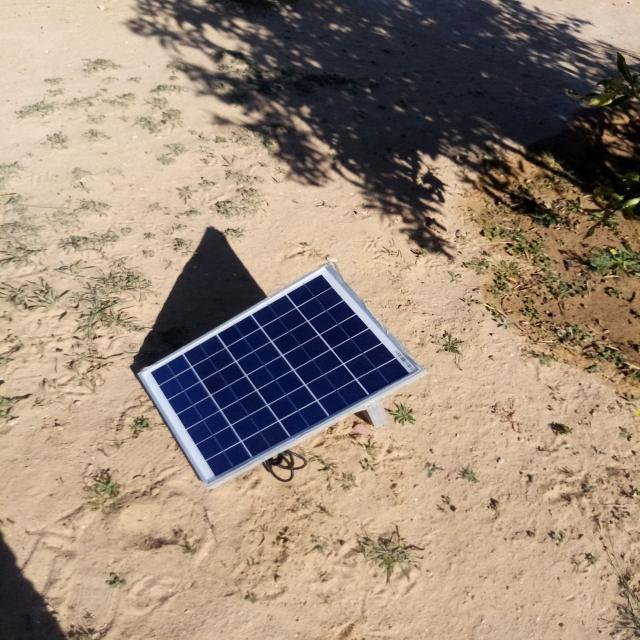no faulty: (138, 265, 422, 485)
